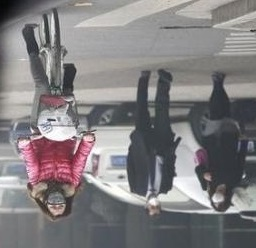person: (12, 20, 96, 222), (125, 69, 179, 217), (194, 71, 248, 214)
